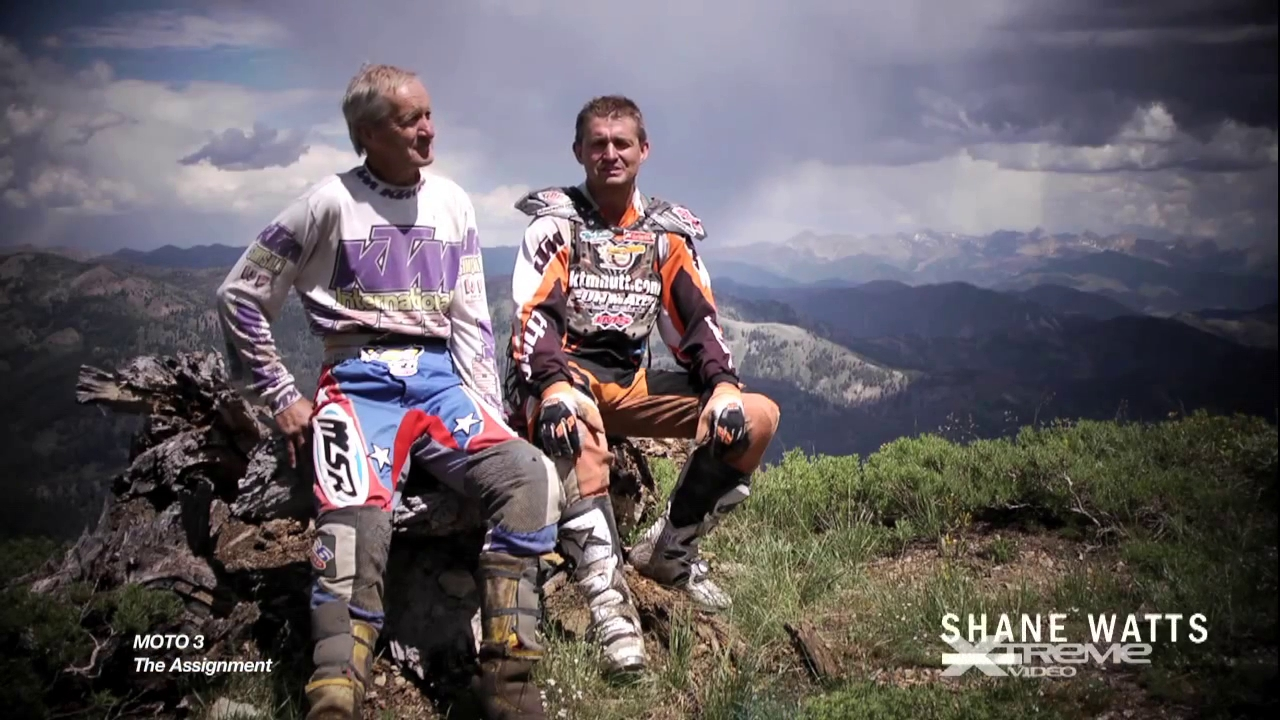person: (216, 63, 566, 717), (505, 95, 780, 682)
